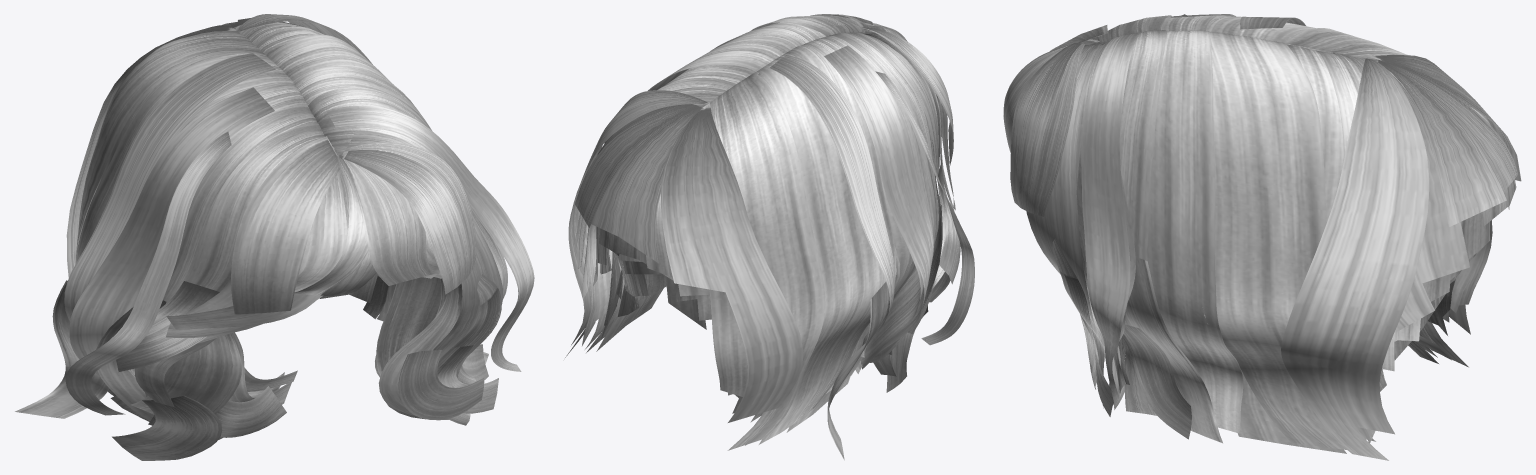
File: ShortHair.glb
3 renders of one model, left to right at view 1: azimuth 30°, elevation 25°; view 2: azimuth 150°, elevation 25°; view 3: azimuth 270°, elevation 25°, orthographic. The views are drawn at different scales.
Parts seen in each view (by area): view 1: obj4, obj1, obj3, obj2; view 2: obj4, obj1, obj2, obj3; view 3: obj4, obj1, obj2, obj3.
Part boxes in pixels (x1=…): obj4: x1=15, y1=14, x2=534, y2=460; obj1: x1=75, y1=22, x2=440, y2=439; obj3: x1=128, y1=117, x2=507, y2=437; obj2: x1=110, y1=30, x2=441, y2=421; obj4: x1=565, y1=14, x2=974, y2=460; obj1: x1=582, y1=23, x2=942, y2=450; obj2: x1=590, y1=17, x2=915, y2=432; obj3: x1=798, y1=17, x2=944, y2=354; obj4: x1=1003, y1=14, x2=1521, y2=460; obj1: x1=1125, y1=15, x2=1509, y2=449; obj2: x1=1078, y1=30, x2=1461, y2=453; obj3: x1=1076, y1=19, x2=1222, y2=443.
Size of the model in its own units: 0.7938 by 0.6883 by 0.8787.
Materials: 1 (1 with a texture image).
